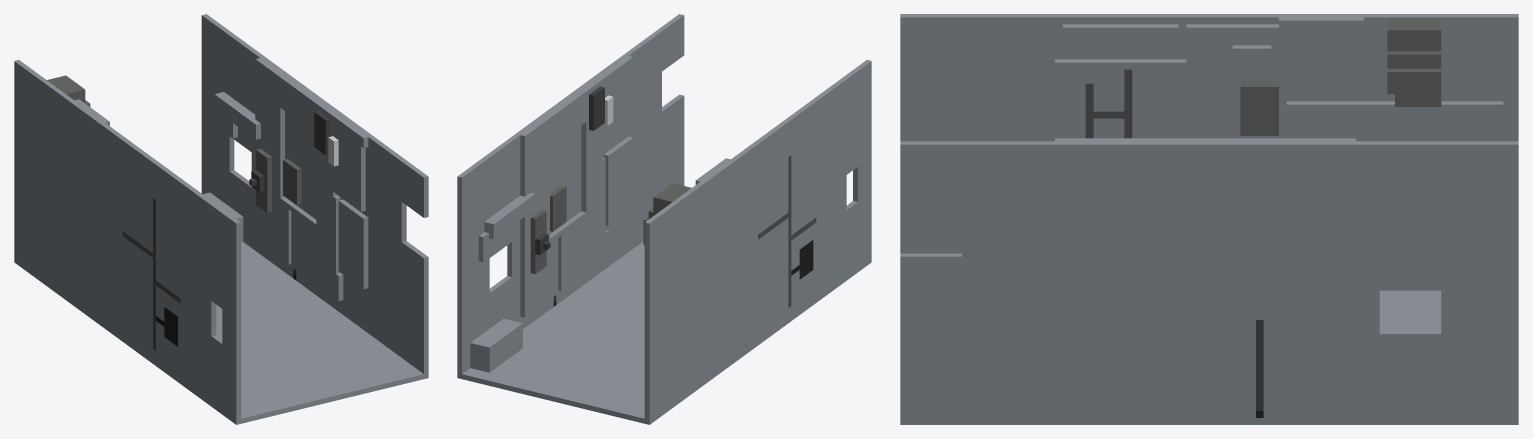
Rendered from environment.obj.
3 renders of one model, left to right at view 1: azimuth 30°, elevation 25°; view 2: azimuth 150°, elevation 25°; view 3: azimuth 270°, elevation 25°, orthographic. The views are drawn at different scales.
Size of the model in its own units: 40 by 40 by 80.
